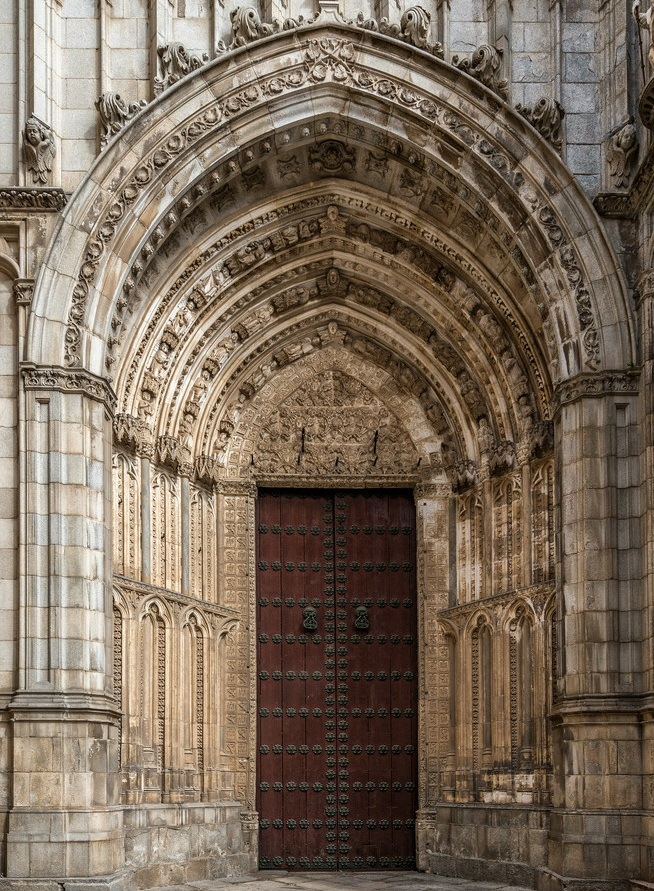arco-apuntado: (24, 18, 626, 473)
